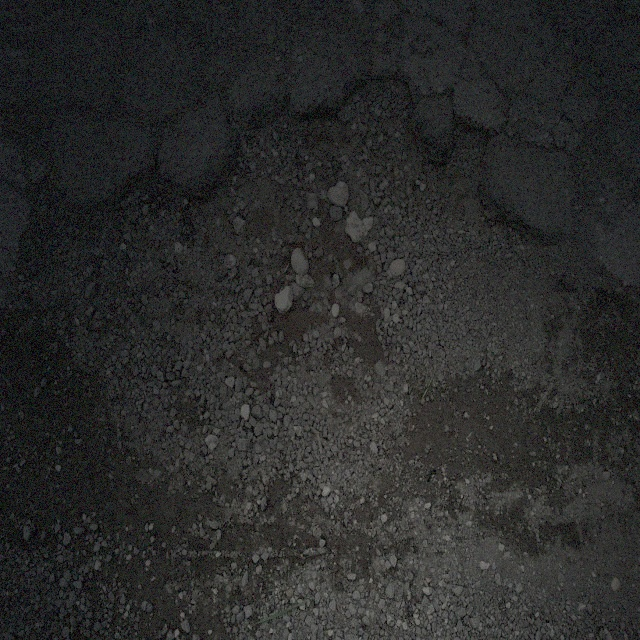pothole: (10, 60, 625, 530)
